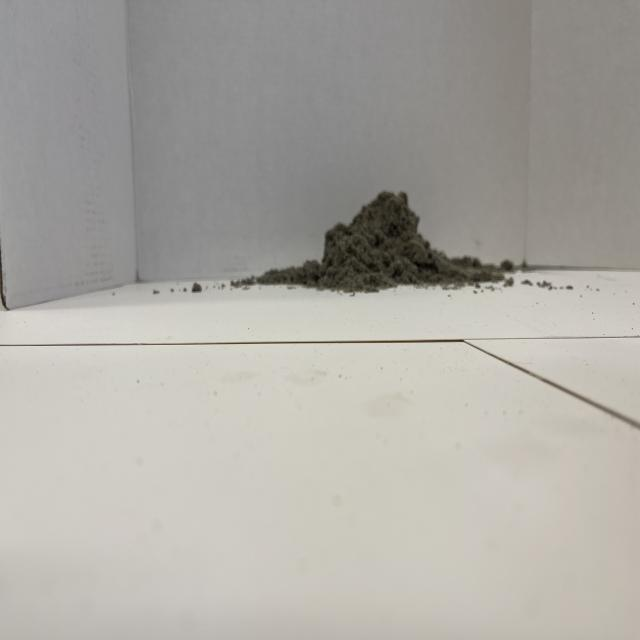sand: (263, 176, 504, 293)
